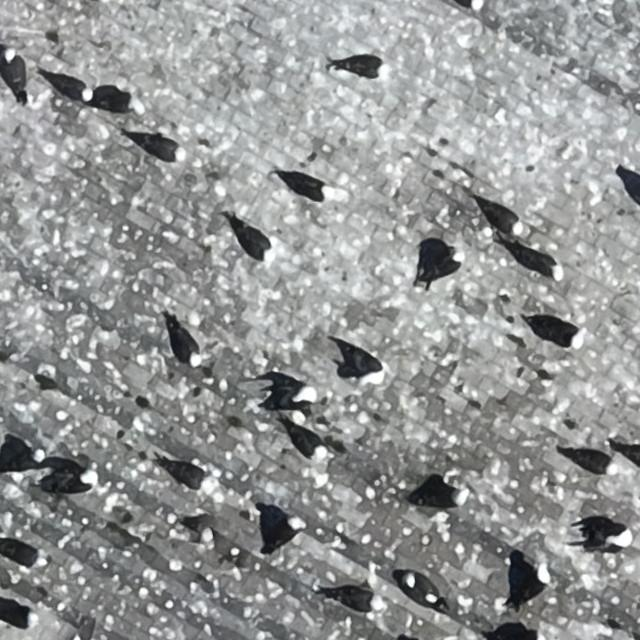umineko: (38, 463, 98, 498), (264, 378, 321, 412), (514, 562, 551, 606), (5, 442, 49, 472), (327, 586, 380, 610), (532, 320, 581, 345), (236, 224, 272, 258), (173, 325, 203, 365), (598, 524, 634, 556), (262, 515, 300, 545), (136, 136, 185, 159), (288, 428, 325, 457), (285, 178, 331, 201), (568, 449, 614, 472), (403, 575, 438, 605), (487, 207, 523, 235), (2, 543, 44, 566), (418, 490, 466, 510), (168, 463, 208, 487), (3, 50, 25, 93), (50, 79, 92, 101), (347, 354, 382, 378), (427, 255, 463, 278), (526, 253, 562, 276), (342, 57, 385, 76), (94, 93, 139, 111), (0, 608, 37, 628), (615, 444, 640, 466)
